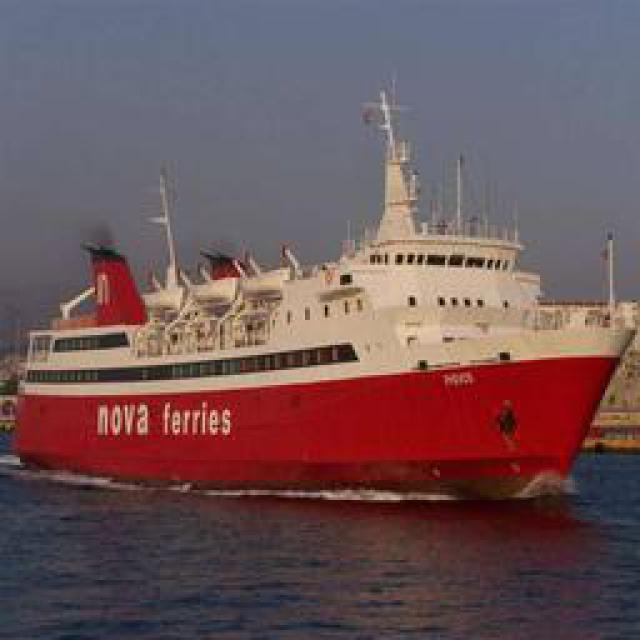Ship: (16, 171, 631, 501)
